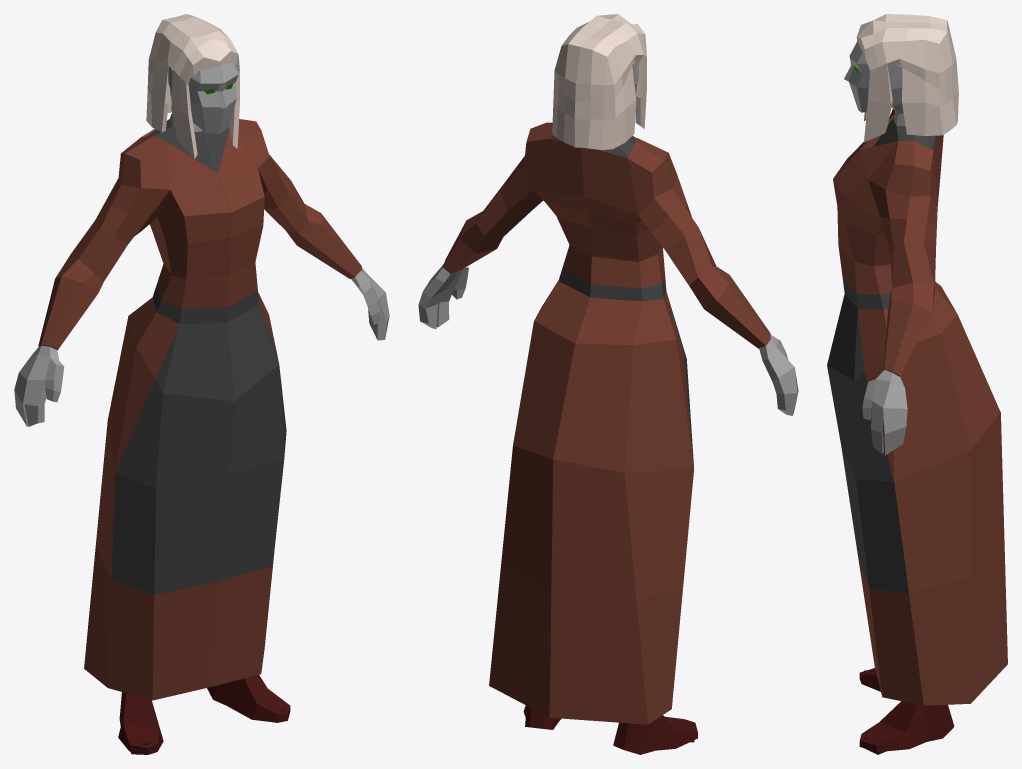
The model's file is traveco-_.fbx.
3 renders of one model, left to right at view 1: azimuth 30°, elevation 25°; view 2: azimuth 150°, elevation 25°; view 3: azimuth 270°, elevation 25°, orthographic.
Visible parts, largest first — view 1: girl drogas; view 2: girl drogas; view 3: girl drogas.
Boxes of the visible parts, <box> form: girl drogas: <box>14,14,389,754</box>; girl drogas: <box>418,14,798,754</box>; girl drogas: <box>827,14,1007,754</box>.
Size of the model in its own units: 93.26 by 170 by 40.05.
